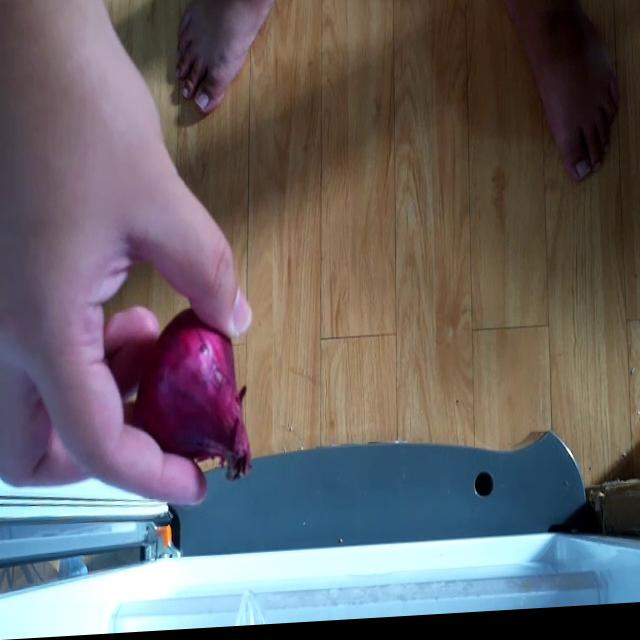onion: (134, 314, 246, 497)
